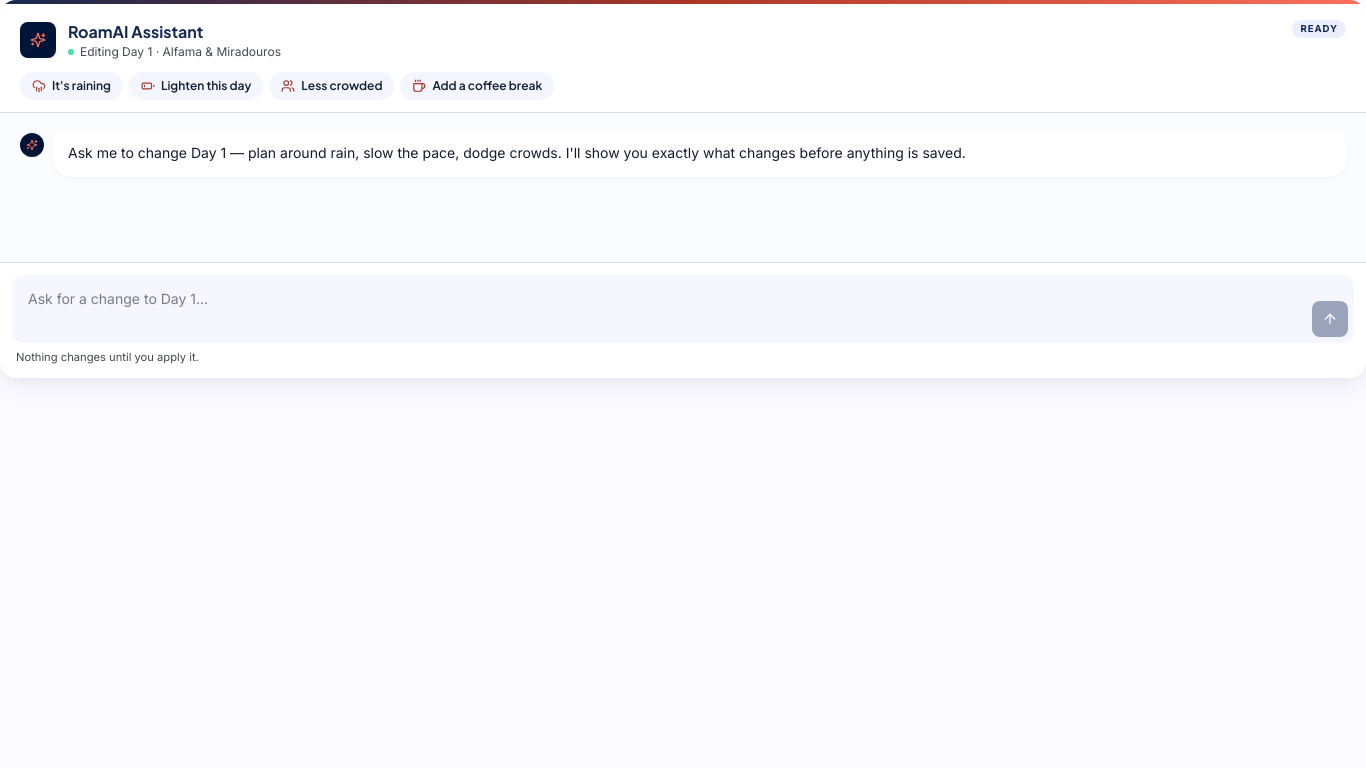
TripAssistant › applies a tab-only trip's change locally
Type "It's raining" into the text box named "Ask RoamAI to change Day 1" at (661, 309), box [18,281,1304,337]
Then press Enter
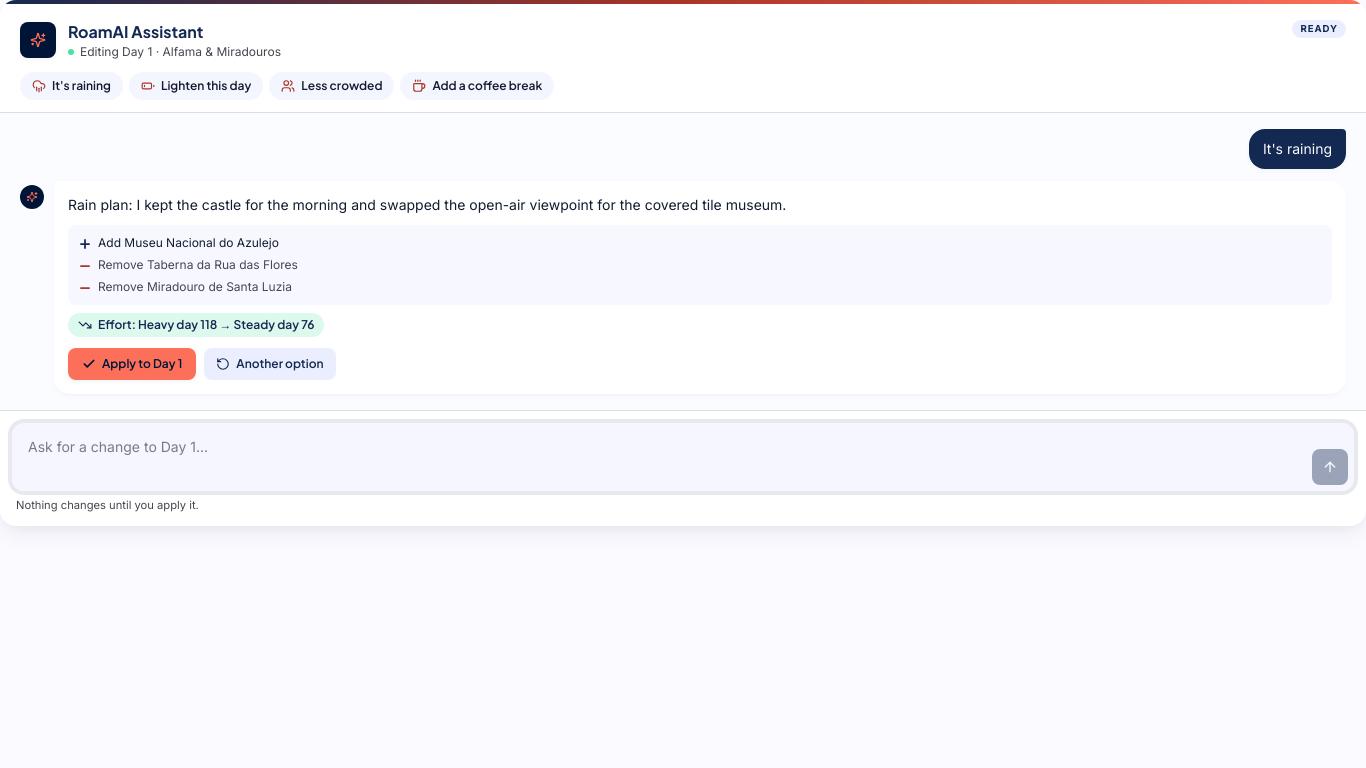
Now the text "Rain plan: I kept the castle for the morning and swapped the open-air viewpoint for the covered tile museum." is shown, box [68,196,786,213]
Click the button "Apply to Day 1" at (132, 364), box [68,348,196,380]
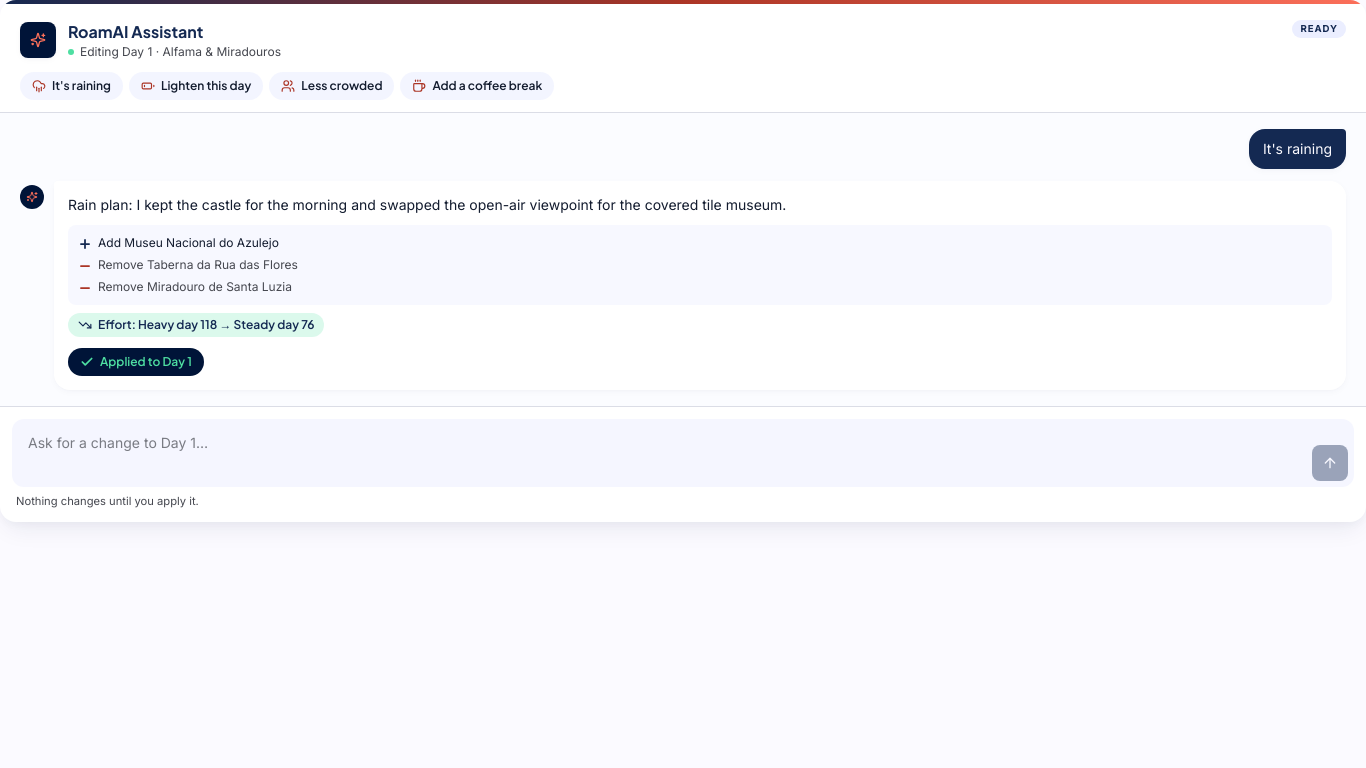
Now the text "Applied to Day 1" is shown, box [68,348,204,376]
